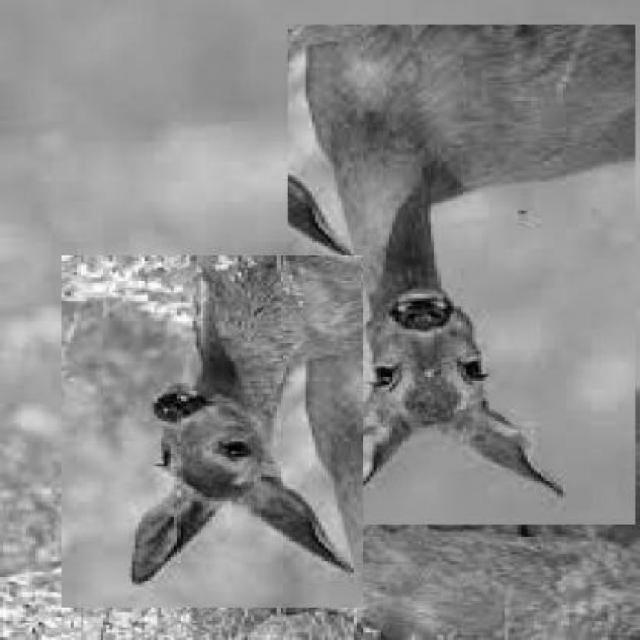Deer: (288, 25, 636, 528), (62, 256, 366, 610)
